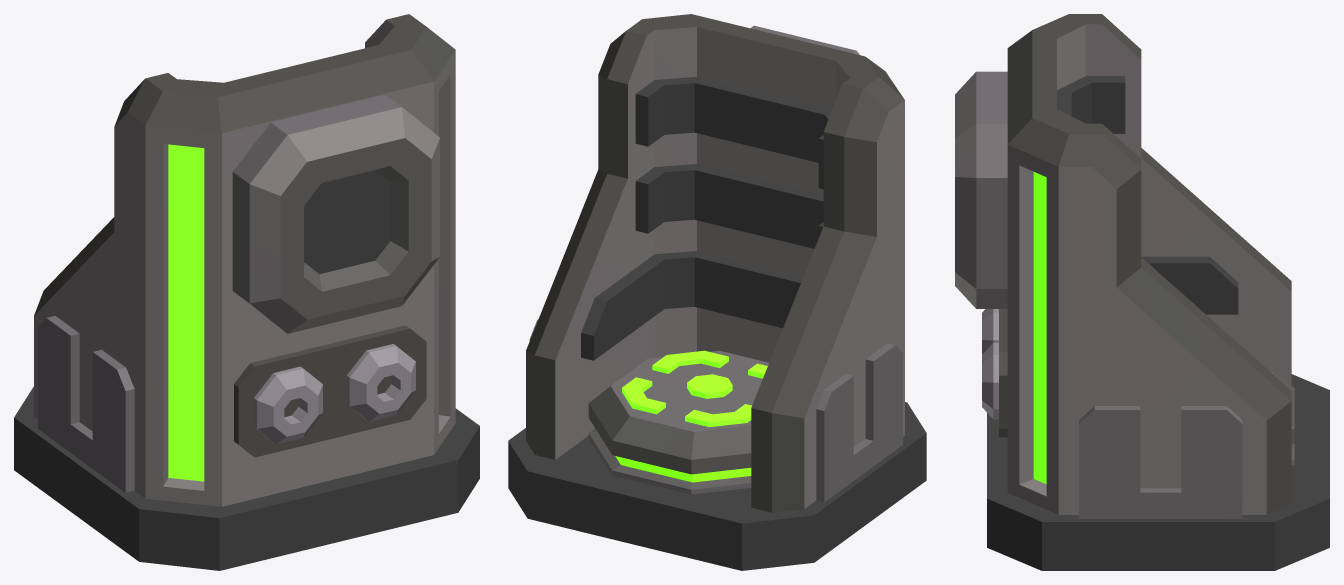
Rendered from entity762118.glb.
The picture shows the model from 3 angles, left to right: view 1: azimuth 30°, elevation 25°; view 2: azimuth 150°, elevation 25°; view 3: azimuth 270°, elevation 25°; orthographic projection. The views are drawn at different scales.
Parts seen in each view (by area): view 1: node_SM_Prop_PowerCellCharger_01 (3); view 2: node_SM_Prop_PowerCellCharger_01 (3); view 3: node_SM_Prop_PowerCellCharger_01 (3).
Boxes of the visible parts, box(x1,y1,x2,y2) form: node_SM_Prop_PowerCellCharger_01 (3): box(14, 14, 479, 570); node_SM_Prop_PowerCellCharger_01 (3): box(508, 14, 926, 570); node_SM_Prop_PowerCellCharger_01 (3): box(955, 14, 1329, 570).
Bounding box in the file's own units: 0.4072 × 0.5143 × 0.4166.
1 material, 1 textured.
